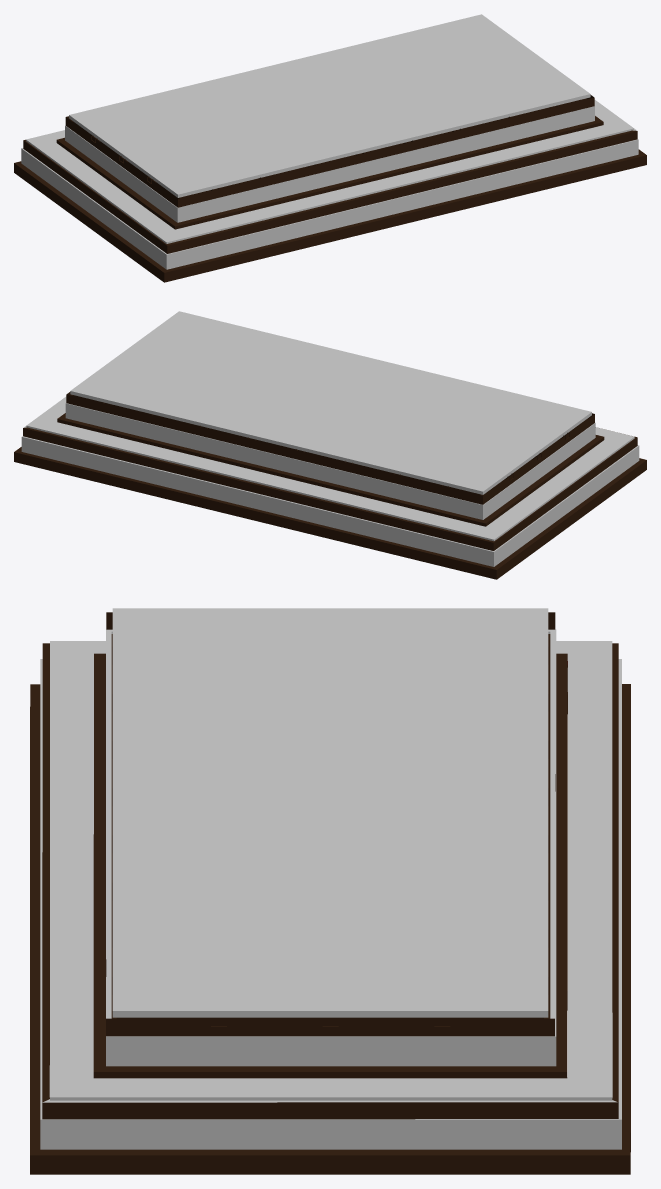
File: CeilingMainHall.fbx
The picture shows the model from 3 angles, top to bottom: view 1: azimuth 30°, elevation 25°; view 2: azimuth 150°, elevation 25°; view 3: azimuth 270°, elevation 25°; orthographic projection. The views are drawn at different scales.
Visible parts, largest first — view 1: MainHallCeiling:polySurface4; view 2: MainHallCeiling:polySurface4; view 3: MainHallCeiling:polySurface4.
Part boxes in pixels (x1,y1,x2,y2): MainHallCeiling:polySurface4: (14,14,646,282); MainHallCeiling:polySurface4: (14,311,646,579); MainHallCeiling:polySurface4: (30,608,630,1174).
Size of the model in its own units: 2236 by 286 by 1206.
